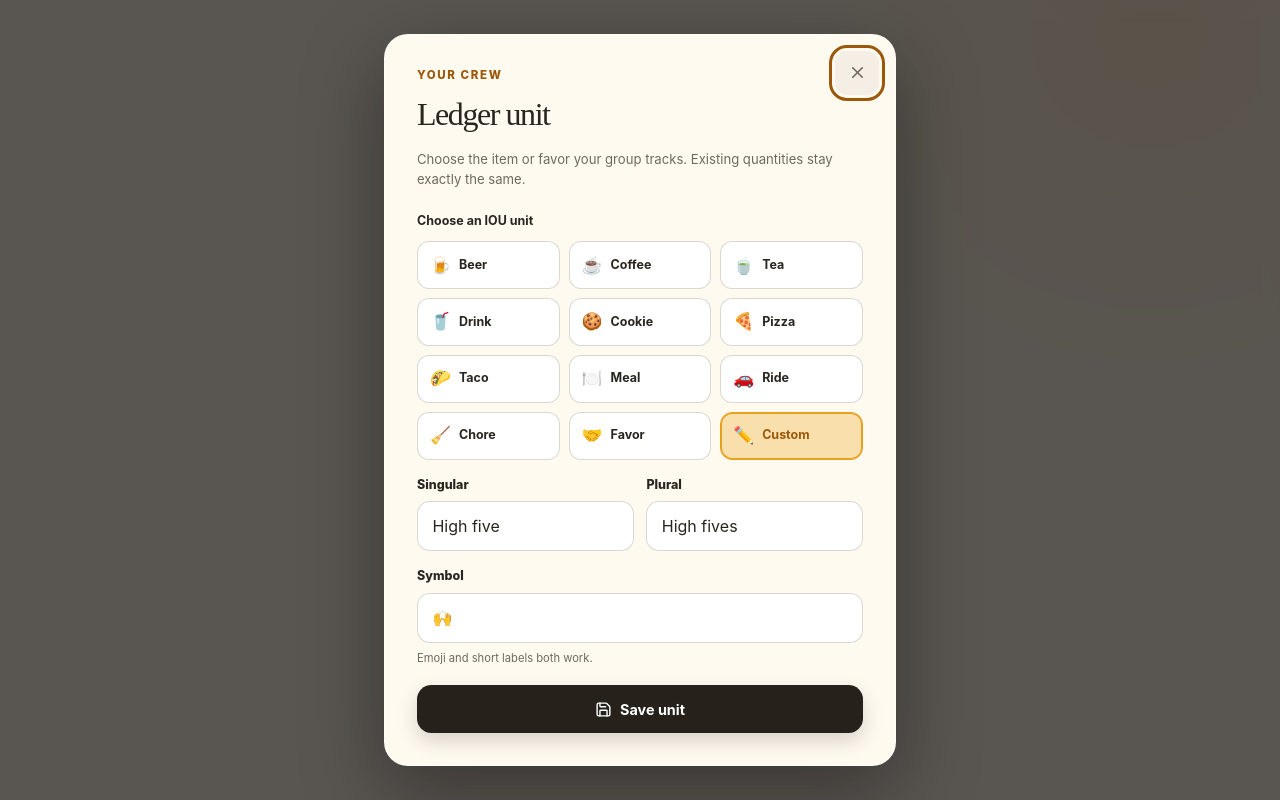
Test: GroupCurrencyDialog › preserves a custom draft while a preset is previewed
Replace the text in the field labelled "Singular" with "Helping hand": (525, 526) [417, 501, 634, 551]
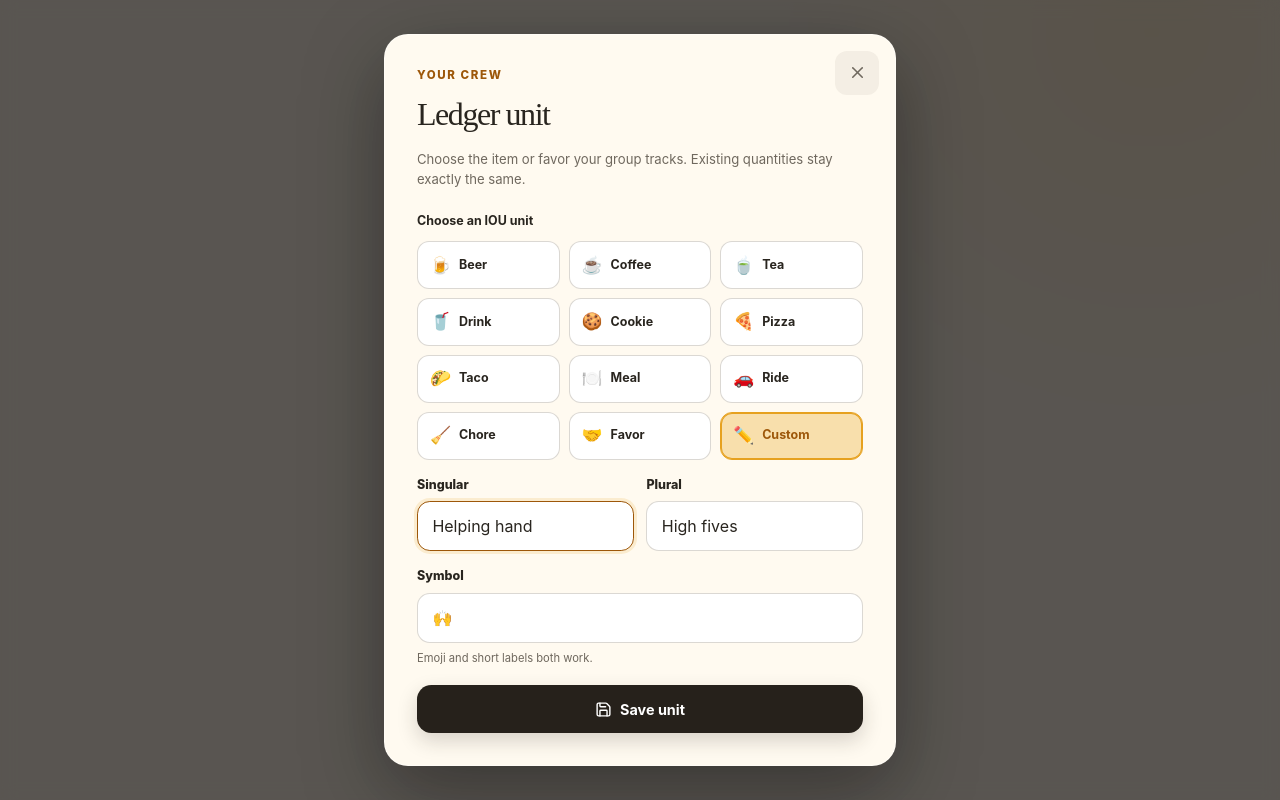
Click the button "☕ Coffee": click(640, 265) [569, 241, 711, 289]
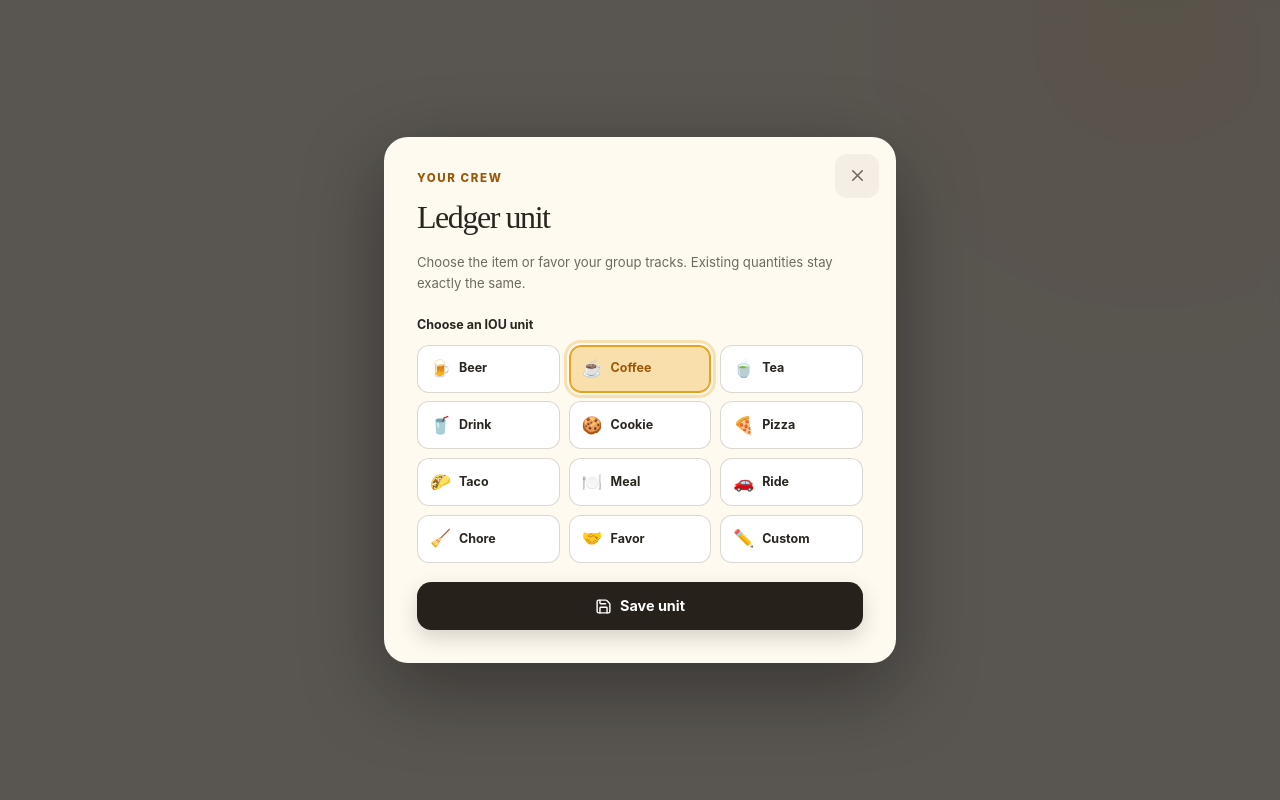
Click the button "✏️ Custom": click(792, 539) [720, 515, 863, 563]
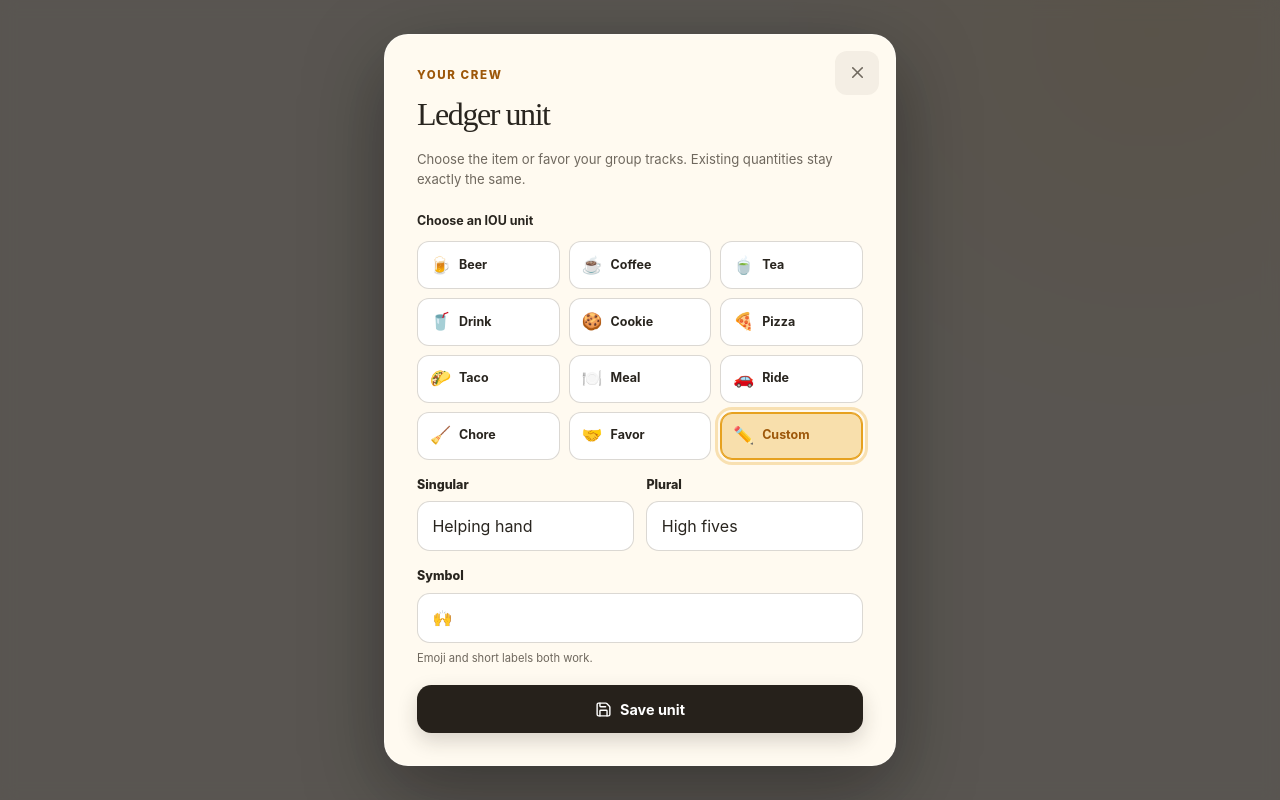
Expected: the field labelled "Singular" holds "Helping hand", [417, 501, 634, 551]
